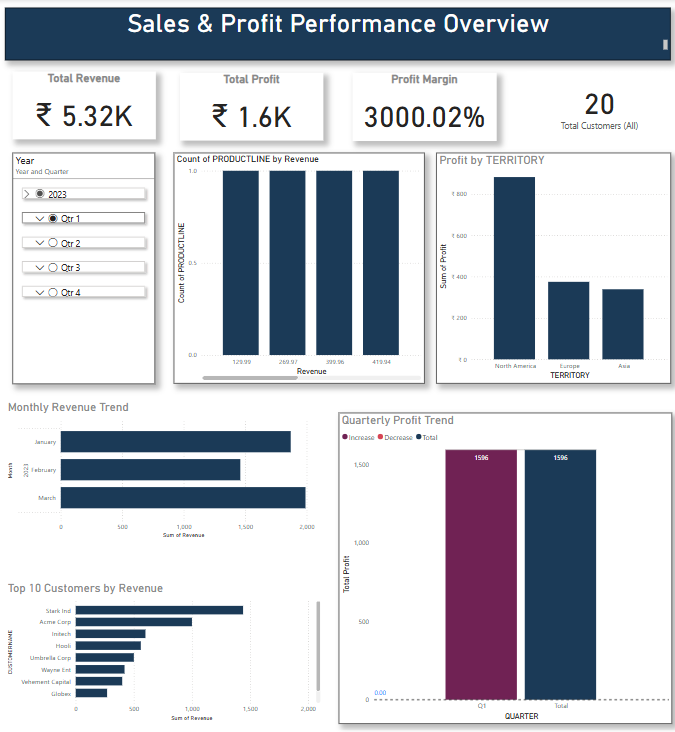

What the dashboard file says about the page in this screenshot:
{"tool":"powerbi","page":{"name":"Page 2","canvas":[1280,1380],"ordinal":0},"visuals":[{"type":"textbox","title":"Sales & Profit Performance Overview","box":[10,16.7,1248.3,98.3],"z":1000},{"type":"card","title":"Total Revenue","fields":{"Values":["sales_data_analyzed.Total Revenue"]},"box":[24.3,135.7,268.6,127.1],"z":2000},{"type":"card","title":"Total Profit","fields":{"Values":["sales_data_analyzed.Total Profit"]},"box":[338.6,137.1,268.6,127.1],"z":3000},{"type":"card","title":"Profit Margin","fields":{"Values":["sales_data_analyzed.Profit Margin (%)"]},"box":[660,138,270,128],"z":4000},{"type":"card","fields":{"Values":["sales_data_analyzed.Total Customers (All)"]},"box":[988,136,270,128],"z":5000},{"type":"listSlicer","title":"Year","fields":{"Values":["sales_data_analyzed.ORDERDATE.Variation.Date Hierarchy.Year","sales_data_analyzed.ORDERDATE.Variation.Date Hierarchy.Quarter","sales_data_analyzed.ORDERDATE.Variation.Date Hierarchy.Month","sales_data_analyzed.TERRITORY","sales_data_analyzed.PRODUCTLINE","sales_data_analyzed.CUSTOMERNAME"]},"box":[23.4,288.3,267.2,433.6],"z":6000},{"type":"columnChart","fields":{"Category":["sales_data_analyzed.Revenue"],"Y":["CountNonNull(sales_data_analyzed.PRODUCTLINE)"]},"box":[325,287.5,470,432.5],"z":7000},{"type":"pageNavigator","box":[1280,570,1200,150],"z":8000},{"type":"columnChart","title":"Profit by TERRITORY","fields":{"Y":["Sum(sales_data_analyzed.Profit)"],"Category":["sales_data_analyzed.TERRITORY"]},"box":[817.5,287.5,440,432.5],"z":9000},{"type":"clusteredBarChart","title":"Monthly Revenue Trend","fields":{"Category":["sales_data_analyzed.ORDERDATE.Variation.Date Hierarchy.Year","sales_data_analyzed.ORDERDATE.Variation.Date Hierarchy.Month"],"Y":["Sum(sales_data_analyzed.Revenue)"]},"box":[9.4,752.3,585.9,264.8],"z":10000},{"type":"clusteredBarChart","title":"Top 10 Customers by Revenue","fields":{"Y":["Sum(sales_data_analyzed.Revenue)"],"Category":["sales_data_analyzed.CUSTOMERNAME"]},"box":[10,1093.3,596.7,266.7],"z":11000},{"type":"waterfallChart","title":"Quarterly Profit Trend","fields":{"Category":["sales_data_analyzed.QUARTER","sales_data_analyzed.ORDERDATE.Variation.Date Hierarchy.Quarter","sales_data_analyzed.YEAR"],"Y":["sales_data_analyzed.Total Profit"]},"box":[635,776.7,625,583.3],"z":12000}]}

Visuals, with their boxes in screenshot pixels (x1, y1, x2, y2), scaled from the page's 1280x1380 canvas onto the 675x732 screenshot:
"Sales & Profit Performance Overview" textbox: 5, 9, 664, 61
"Total Revenue" card: 13, 72, 154, 139
"Total Profit" card: 179, 73, 320, 140
"Profit Margin" card: 348, 73, 490, 141
card - sales_data_analyzed.Total Customers (All): 521, 72, 663, 140
"Year" listSlicer: 12, 153, 153, 383
columnChart - sales_data_analyzed.Revenue x CountNonNull(sales_data_analyzed.PRODUCTLINE): 171, 152, 419, 382
"Profit by TERRITORY" columnChart: 431, 152, 663, 382
"Monthly Revenue Trend" clusteredBarChart: 5, 399, 314, 540
"Top 10 Customers by Revenue" clusteredBarChart: 5, 580, 320, 721
"Quarterly Profit Trend" waterfallChart: 335, 412, 664, 721
